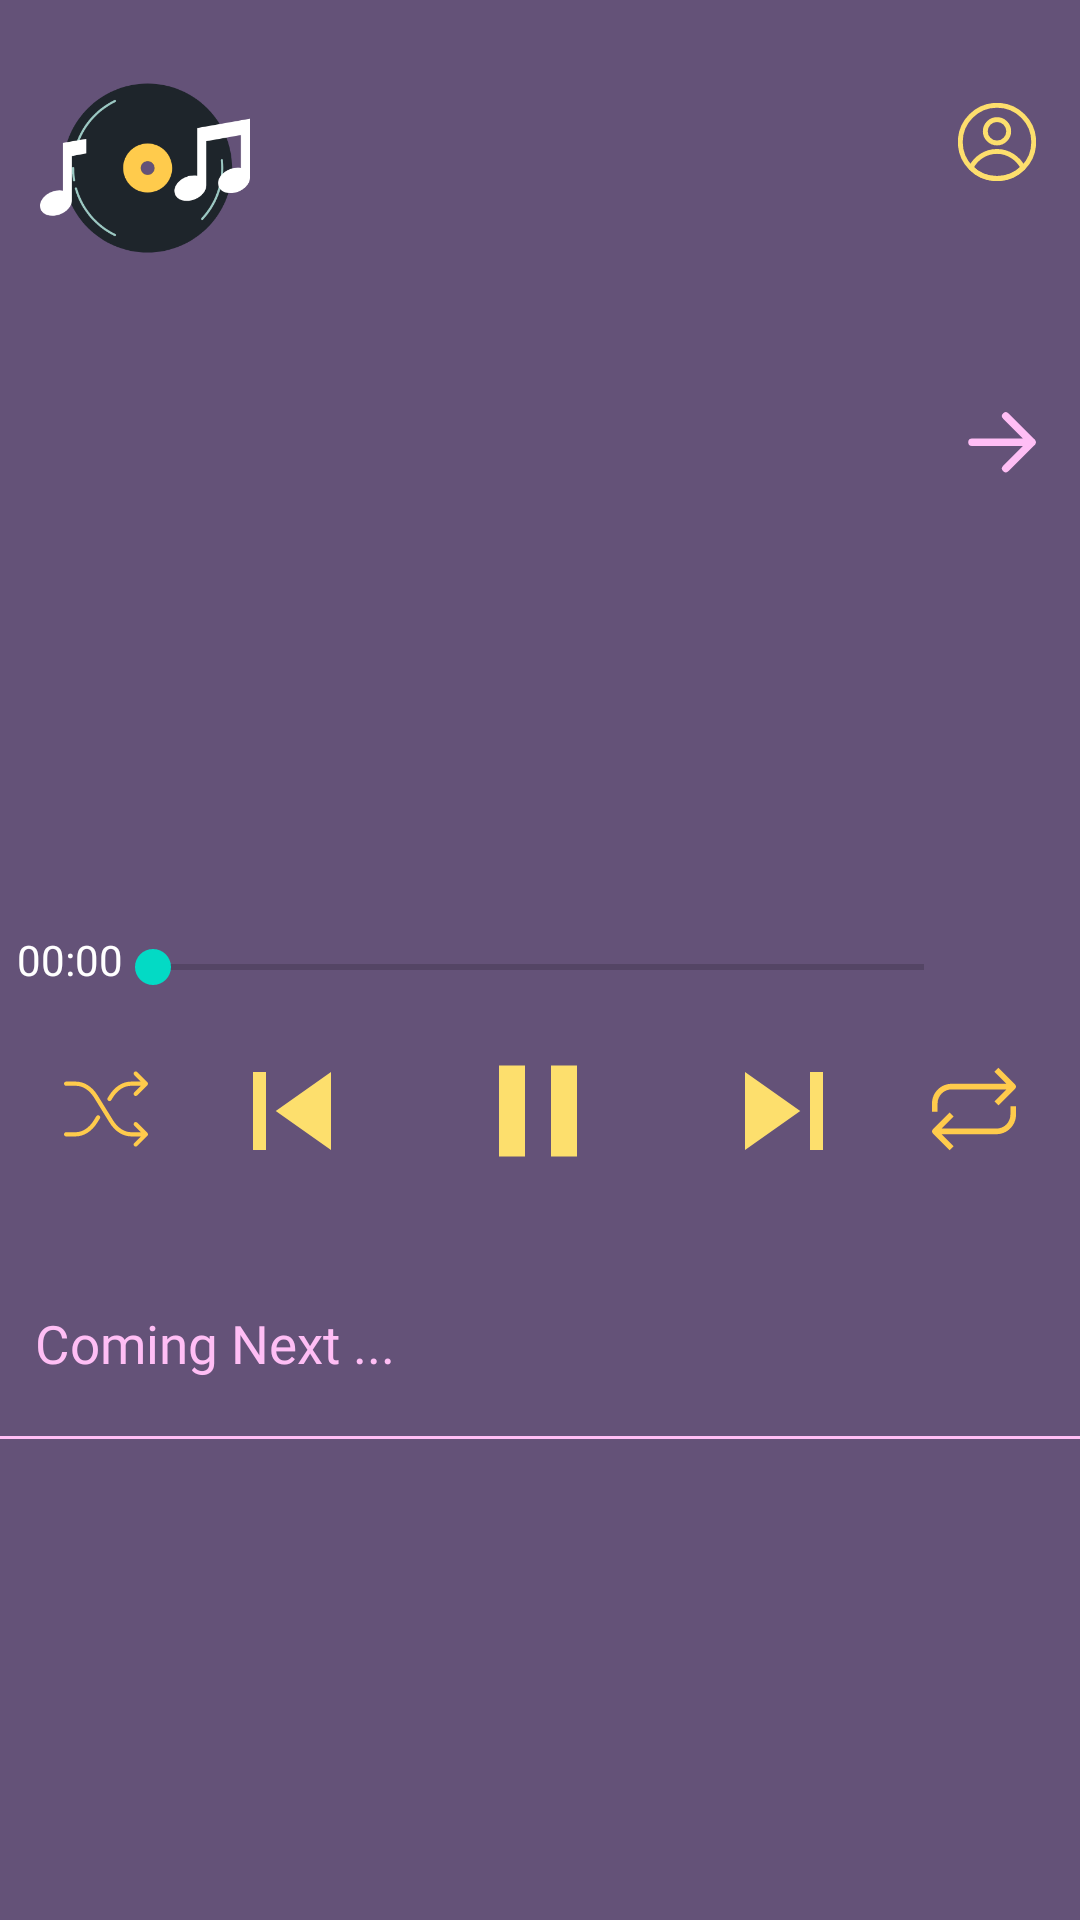

Icons on this 1080 × 1920 Android screen, each with the point to tap as point (x, y):
loop: point (974, 1109)
next song: point (784, 1111)
pause: point (538, 1111)
person account: point (997, 142)
previous song: point (292, 1111)
right arrow: point (1002, 442)
shuffle: point (106, 1109)
